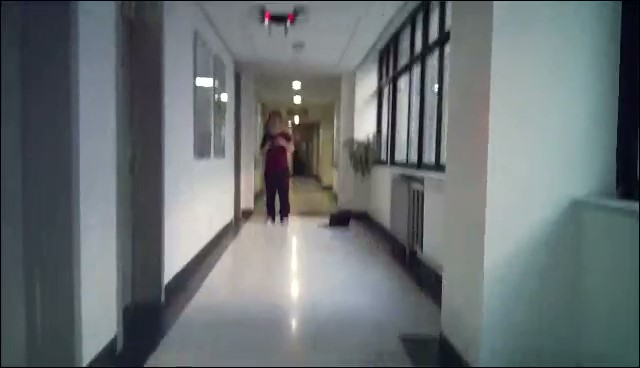drone: (248, 5, 311, 34)
person: (258, 108, 296, 228)
